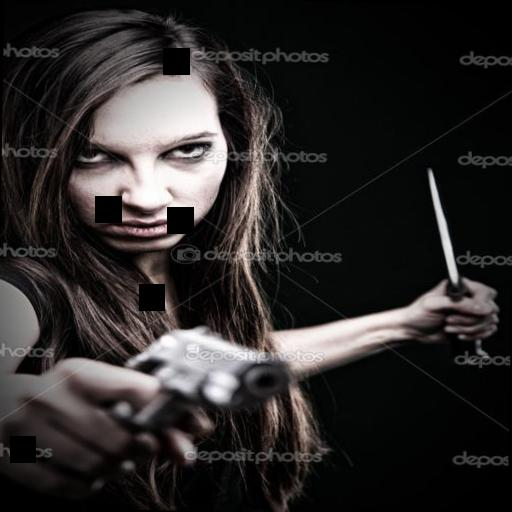Handgun: (63, 322, 299, 486)
